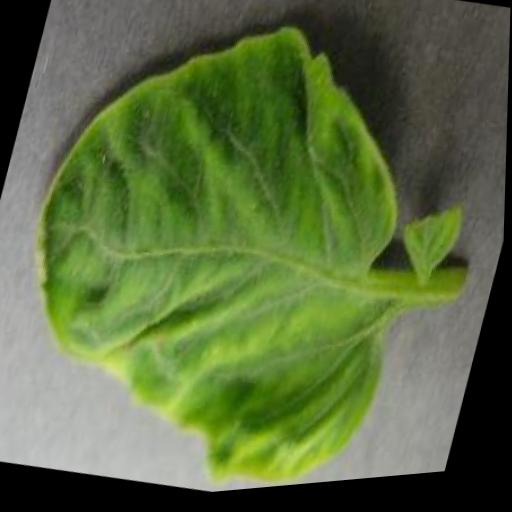Yellow Leaf Curl Virus: (0, 0, 468, 512)
